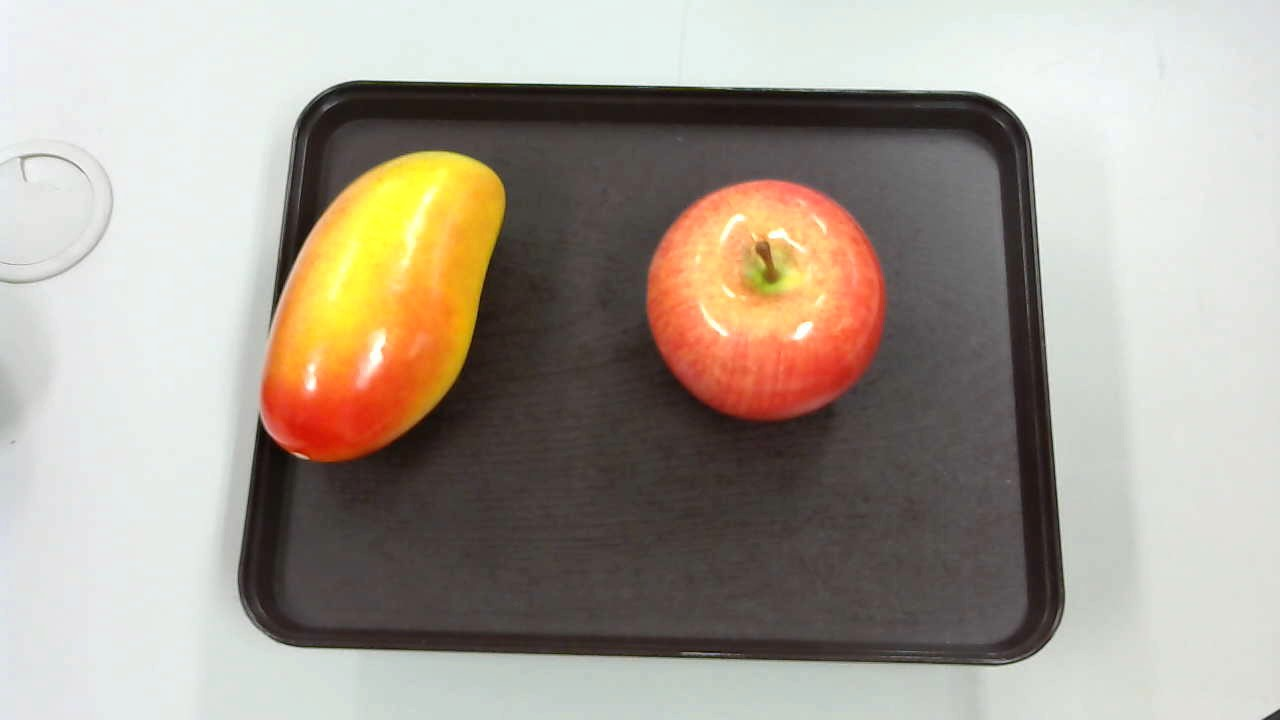red apple: (641, 169, 891, 424)
red mango: (255, 137, 514, 469)
